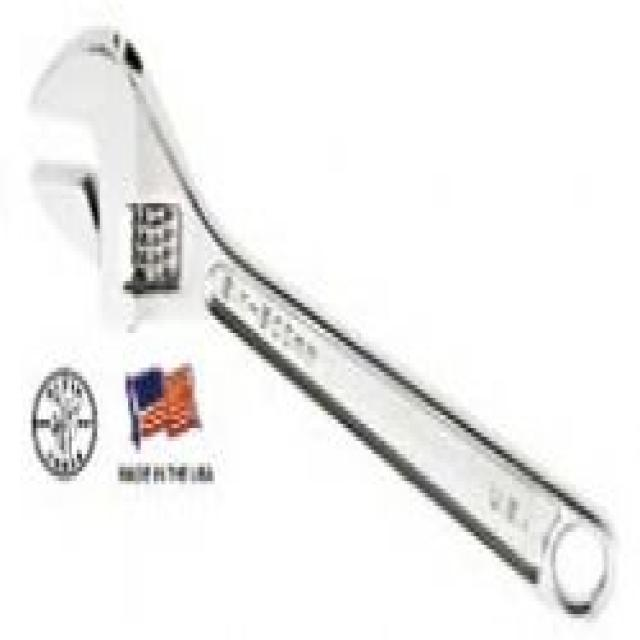wrench: (20, 18, 640, 381)
